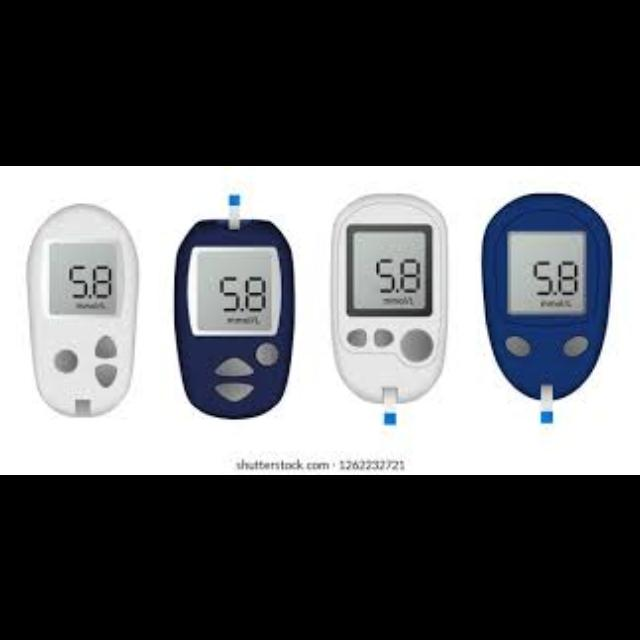Glucose-Meter: (484, 194, 611, 423), (175, 192, 294, 417), (332, 194, 446, 423), (30, 204, 138, 415)
